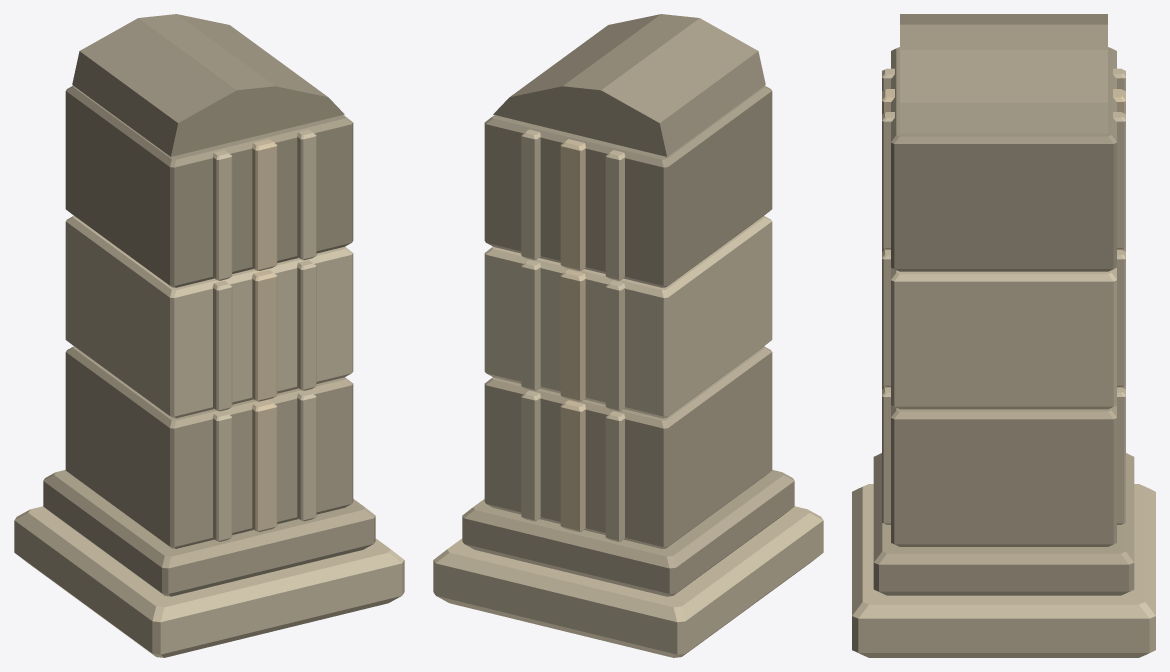
File: Pier_Broken_2m.fbx
3 renders of one model, left to right at view 1: azimuth 30°, elevation 25°; view 2: azimuth 150°, elevation 25°; view 3: azimuth 270°, elevation 25°, orthographic. The views are drawn at different scales.
Parts seen in each view (by area): view 1: Pier_Broken_2m; view 2: Pier_Broken_2m; view 3: Pier_Broken_2m.
Part boxes in pixels (left/top/right/bottom): Pier_Broken_2m: left=14, top=14, right=404, bottom=657; Pier_Broken_2m: left=433, top=14, right=823, bottom=657; Pier_Broken_2m: left=852, top=14, right=1155, bottom=657.
Size of the model in its own units: 0.99 by 2 by 0.98.
